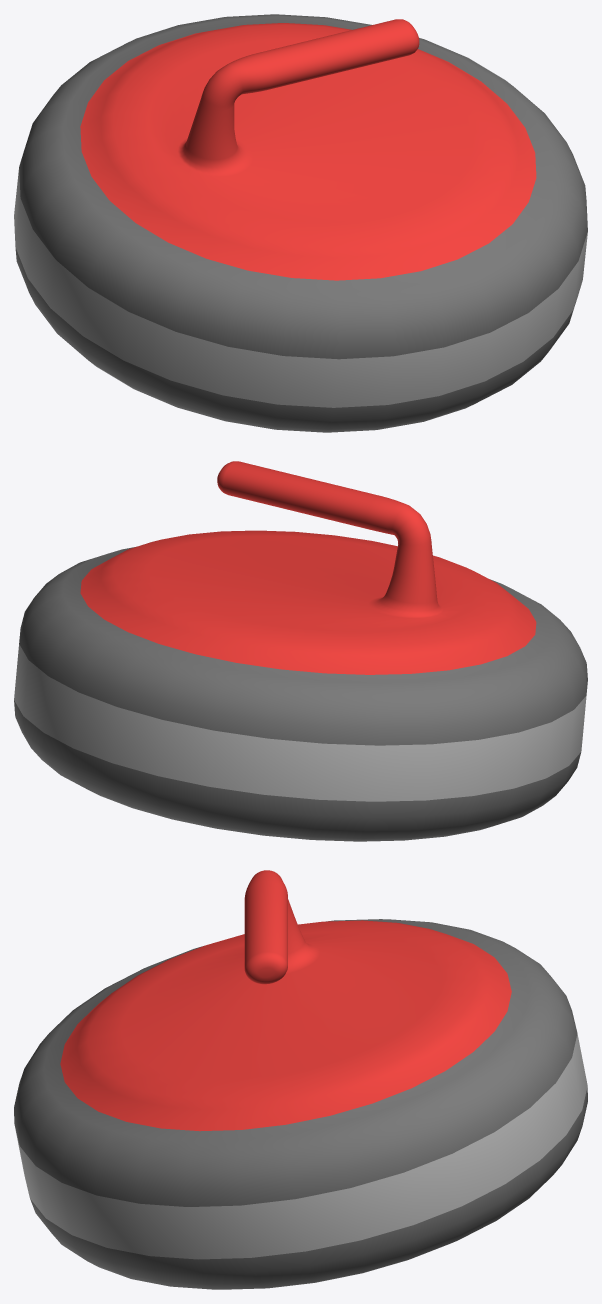
File: curling_stone.gltf
3 renders of one model, top to bottom at view 1: azimuth 30°, elevation 25°; view 2: azimuth 150°, elevation 25°; view 3: azimuth 270°, elevation 25°, orthographic.
Parts seen in each view (by area): view 1: Cylinder.479; view 2: Cylinder.479; view 3: Cylinder.479.
Boxes of the visible parts, x1,y1,x2,y2 form: Cylinder.479: (14, 14, 587, 432); Cylinder.479: (14, 461, 587, 841); Cylinder.479: (14, 870, 587, 1289).
Bounding box in the file's own units: 2.32 × 1.37 × 2.33.
1 material, 1 textured.
